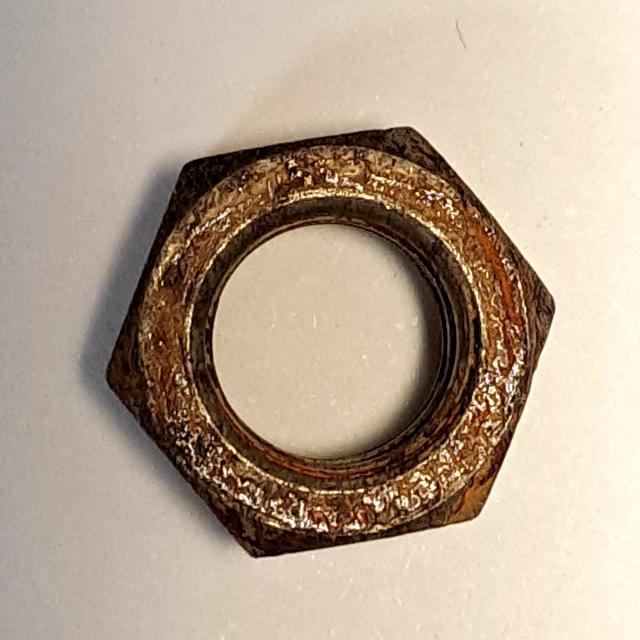Rust: (94, 107, 569, 572)
